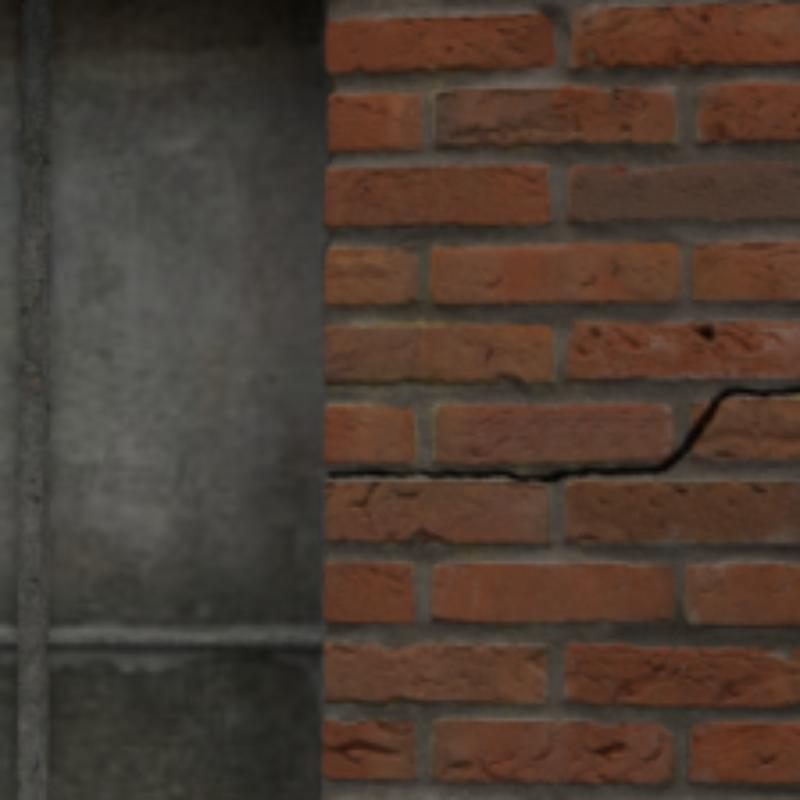pothole: (321, 381, 796, 485)
